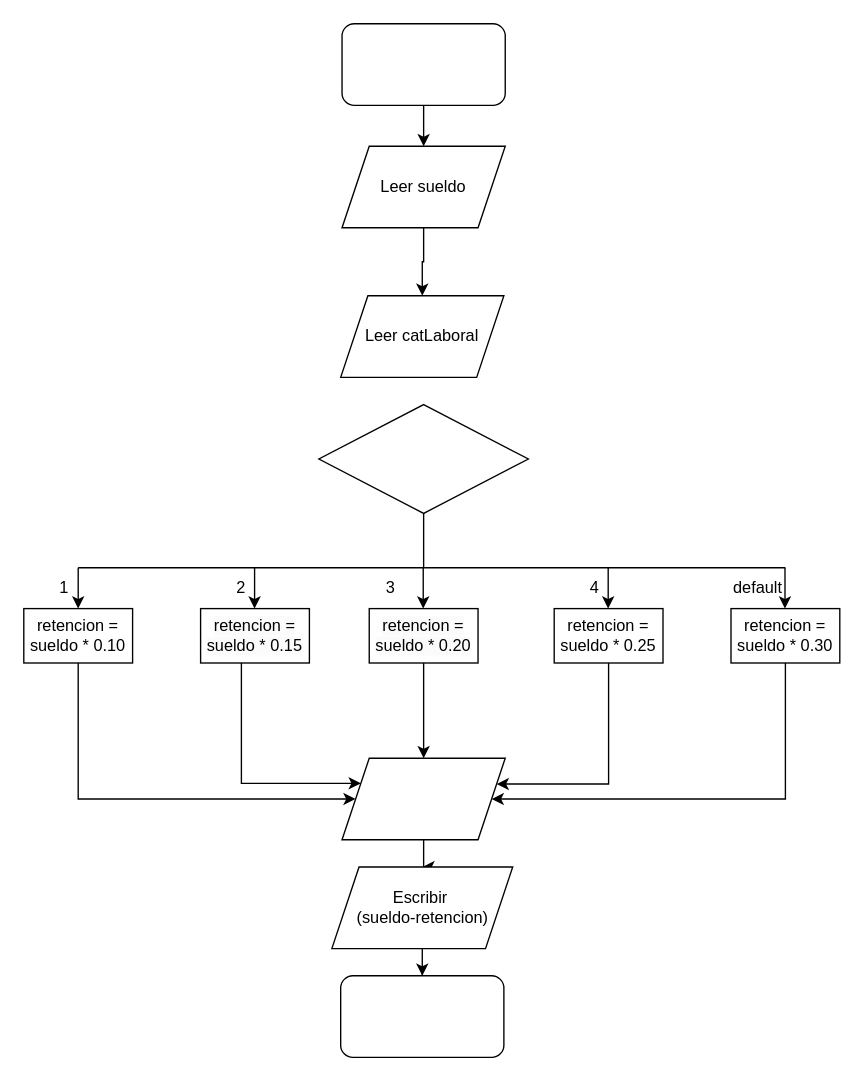
The diagram is 864 pixels wide and 1081 high, and some of its shapes have lost their labels. The centre of each missing label's shape, as x and y in pixels:
"CatLaboral" goes at pixel 423 458.
"Escribir retencion" goes at pixel 423 798.
"Fin SwitchCase" goes at pixel 421 1015.
"Inicio SwitchCase" goes at pixel 423 63.
